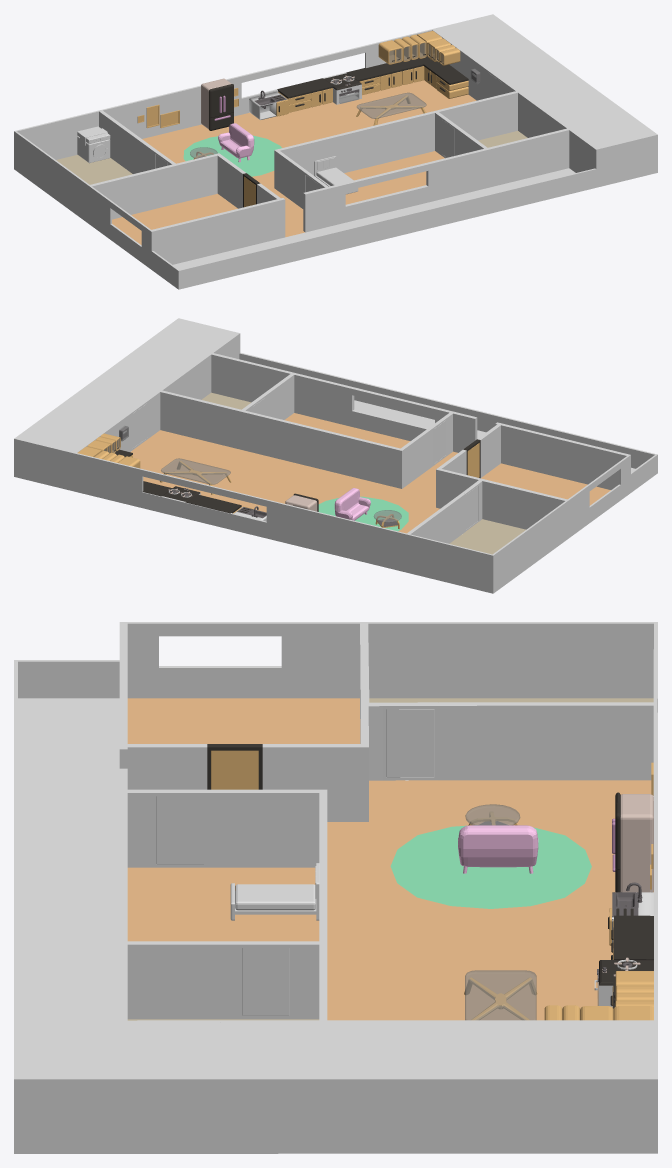
The model's file is FinalLAyout.fbx.
3 renders of one model, top to bottom at view 1: azimuth 30°, elevation 25°; view 2: azimuth 150°, elevation 25°; view 3: azimuth 270°, elevation 25°, orthographic. The views are drawn at different scales.
Parts seen in each view (by area): view 1: walls rooms, floor.001, lift area.ceeling.001, walls hall and corridor, balcony.001, baathroom attached.001, bedroom 1.001, carpet, bathrooe non attached.001, table yop.001, Cube.055, Cube.057 (+8 smaller); view 2: walls rooms, walls hall and corridor, floor.001, lift area.ceeling.001, bedroom 1.001, baathroom attached.001, bathrooe non attached.001, carpet, table yop.001, balcony.001, Cube.055, Cube.053 (+3 smaller); view 3: walls rooms, floor.001, balcony.001, lift area.ceeling.001, walls hall and corridor, baathroom attached.001, bedroom 1.001, carpet, table yop.001, Cube.055, bathroom frame.001, bedroom 1 door frame.003 (+13 smaller).
Part boxes in pixels (bbox=[...]): walls rooms: bbox=[14, 14, 657, 289]; floor.001: bbox=[142, 80, 476, 237]; lift area.ceeling.001: bbox=[457, 31, 654, 147]; walls hall and corridor: bbox=[99, 30, 515, 231]; balcony.001: bbox=[173, 168, 575, 269]; baathroom attached.001: bbox=[344, 131, 527, 204]; bedroom 1.001: bbox=[112, 193, 237, 244]; carpet: bbox=[183, 135, 281, 176]; bathrooe non attached.001: bbox=[56, 155, 132, 184]; table yop.001: bbox=[357, 92, 426, 118]; Cube.055: bbox=[218, 123, 254, 162]; Cube.057: bbox=[77, 126, 110, 163]; walls rooms: bbox=[14, 318, 657, 593]; walls hall and corridor: bbox=[77, 392, 496, 534]; floor.001: bbox=[130, 430, 457, 533]; lift area.ceeling.001: bbox=[38, 319, 235, 436]; bedroom 1.001: bbox=[481, 463, 610, 505]; baathroom attached.001: bbox=[201, 392, 410, 448]; bathrooe non attached.001: bbox=[449, 519, 525, 554]; carpet: bbox=[318, 496, 408, 531]; table yop.001: bbox=[161, 458, 230, 484]; balcony.001: bbox=[354, 400, 635, 471]; Cube.055: bbox=[334, 488, 370, 520]; Cube.053: bbox=[132, 403, 147, 448]; walls rooms: bbox=[14, 622, 657, 1153]; floor.001: bbox=[327, 780, 653, 1020]; balcony.001: bbox=[18, 698, 119, 1020]; lift area.ceeling.001: bbox=[18, 1023, 572, 1077]; walls hall and corridor: bbox=[119, 702, 657, 821]; baathroom attached.001: bbox=[127, 867, 319, 1020]; bedroom 1.001: bbox=[127, 698, 360, 743]; carpet: bbox=[390, 825, 591, 908]; table yop.001: bbox=[465, 970, 536, 1020]; Cube.055: bbox=[458, 825, 538, 873]; bathroom frame.001: bbox=[386, 709, 434, 777]; bedroom 1 door frame.003: bbox=[156, 796, 203, 864].
Size of the model in its own units: 9482 by 793 by 5642.
